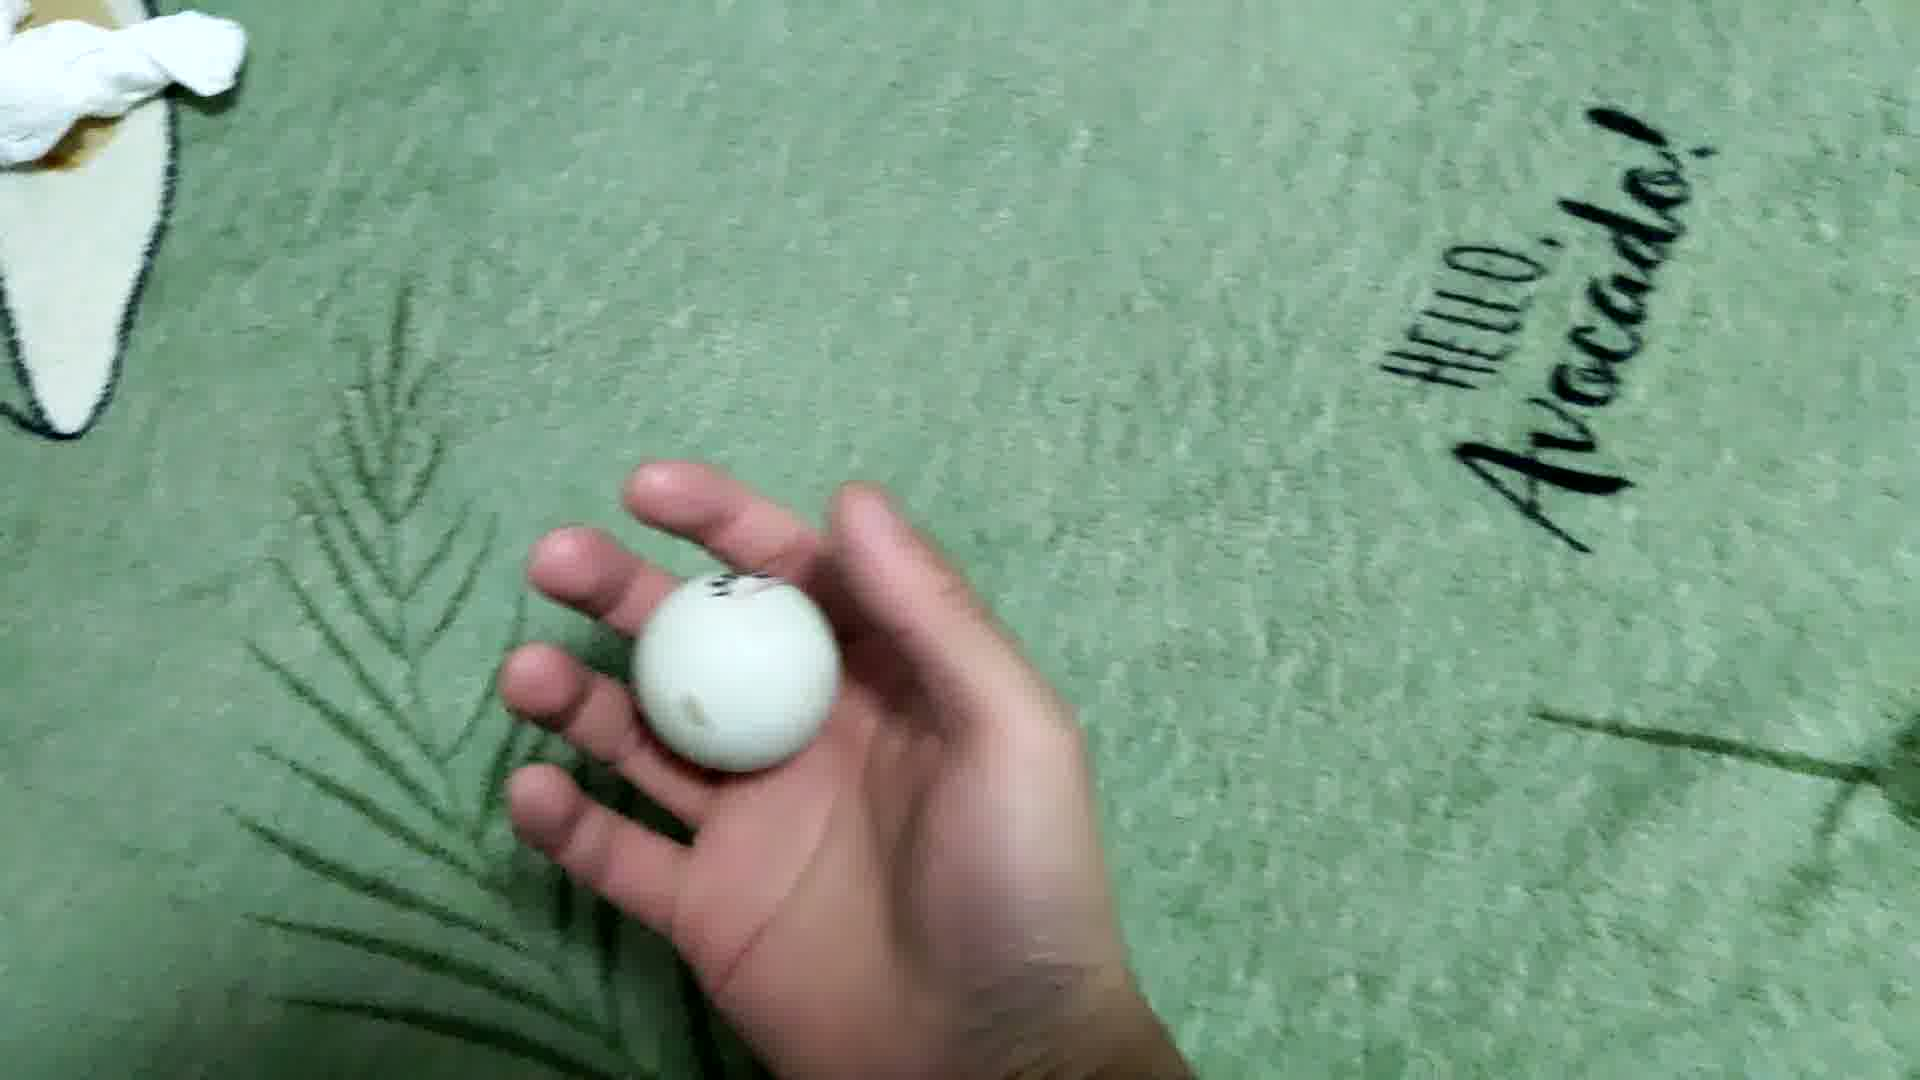Ball: (625, 574, 841, 766)
